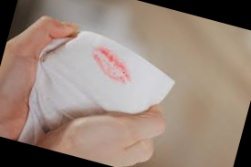lipstick: (82, 42, 139, 93)
